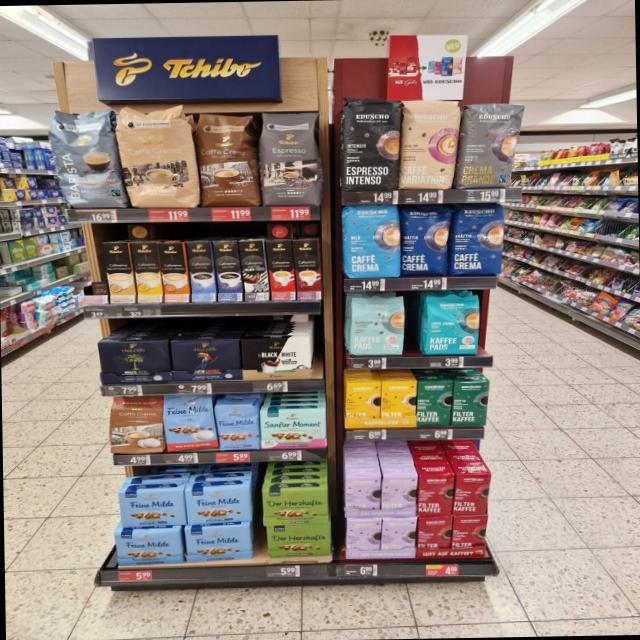BM Gemahlen: (96, 340, 172, 386)
BW Gemahlen: (240, 338, 312, 380)
Barista CC: (48, 106, 124, 208)
CC Mild: (115, 106, 197, 208)
CC Vollmundig: (108, 396, 164, 453)
CC Vollmundig 36 Pads: (194, 110, 260, 208)
Espresso Aromatisch: (259, 111, 321, 206)
FM 36 Pads: (162, 394, 218, 452)
FM Bohne: (214, 402, 260, 450)
FM Gemahlen: (116, 488, 186, 528), (111, 528, 183, 566), (182, 525, 253, 563), (184, 486, 253, 524)
Herzhatfe Mundig: (262, 488, 329, 525), (265, 524, 332, 558)
LG Gemahlen: (170, 338, 240, 380)
SM Gemahlen: (260, 406, 327, 449)
Simo CCMild bigpack: (130, 242, 164, 302)
Simo CCVollmundig bigpack: (157, 242, 190, 302)
Simo Decaff: (101, 242, 136, 303)
Simo Es Brazil: (266, 239, 296, 299)
Simo Es Caramel: (293, 239, 321, 299)
Simo Es Elegant: (238, 240, 270, 301)
Simo Es Kraft: (213, 240, 243, 301)
Simo Es Vanilla: (186, 241, 217, 301)
